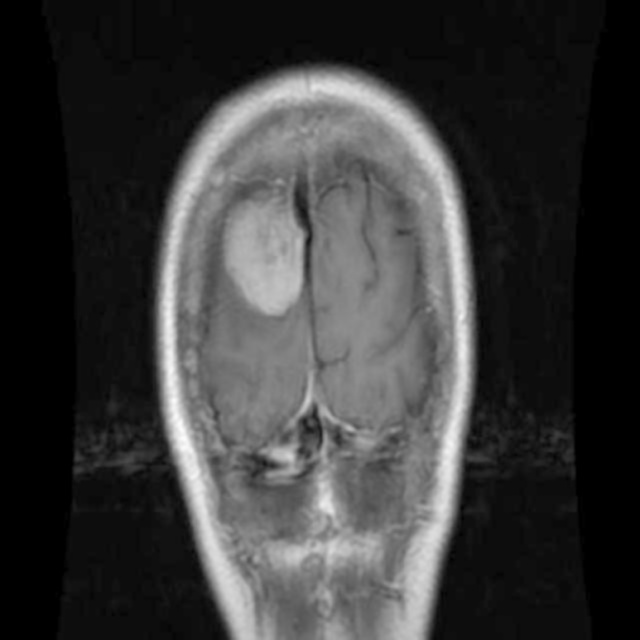meningioma tumor: (221, 188, 319, 332)
